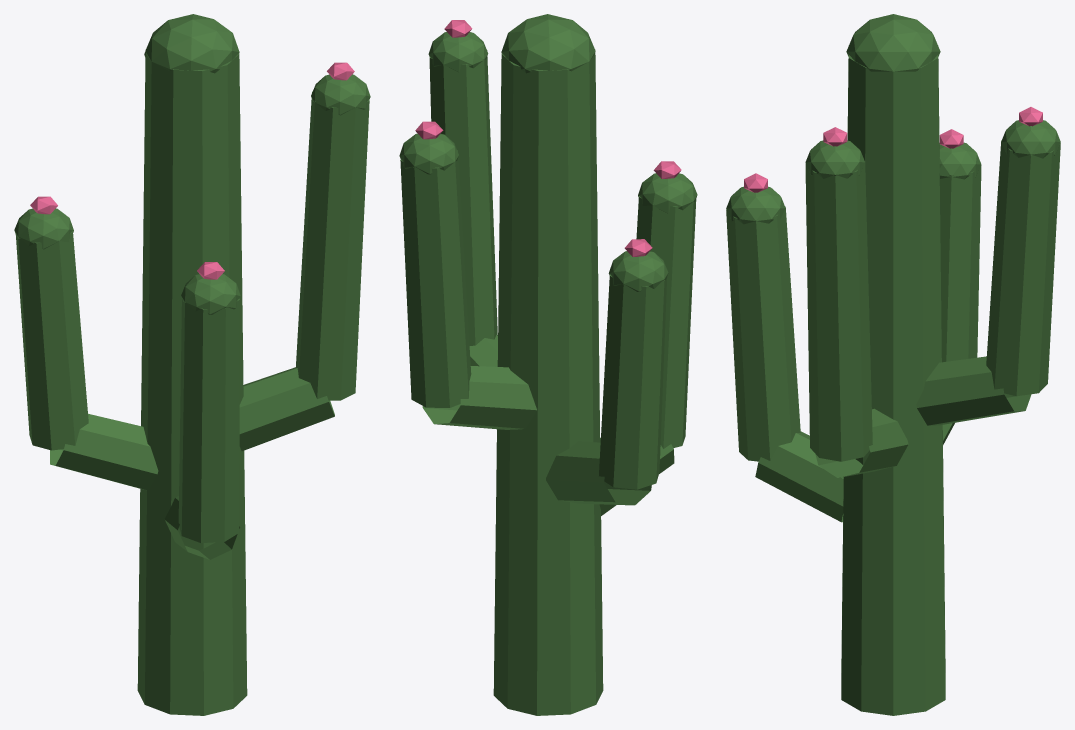
File: DE_Plant_OrganCactus.obj
The picture shows the model from 3 angles, left to right: view 1: azimuth 30°, elevation 25°; view 2: azimuth 150°, elevation 25°; view 3: azimuth 270°, elevation 25°; orthographic projection.
Visible parts, largest first — view 1: stem, arm_0_1, arm_1_1, arm_2_1, arm_2_0, arm_0_0, stem_top, arm_top_1, arm_top_2, arm_top_0, arm_1_0; view 2: stem, arm_3_1, arm_2_1, arm_0_1, arm_1_1, arm_3_0, stem_top, arm_2_0, arm_top_2, arm_top_3, arm_top_0, arm_top_1 (+1 smaller); view 3: stem, arm_0_1, arm_3_1, arm_1_1, arm_2_1, arm_3_0, stem_top, arm_1_0, arm_0_0, arm_top_0, arm_top_3, arm_top_1 (+1 smaller).
Boxes of the visible parts, x1,y1,x2,y2 form: stem: (137,49,247,715); arm_0_1: (295,91,369,400); arm_1_1: (178,292,239,542); arm_2_1: (16,231,88,450); arm_2_0: (50,413,158,490); arm_0_0: (239,367,334,451); stem_top: (145,14,239,73); arm_top_1: (181,274,240,314); arm_top_2: (14,208,73,249); arm_top_0: (311,74,370,115); arm_1_0: (164,496,239,559); stem: (493,49,603,715); arm_3_1: (400,150,471,407); arm_2_1: (599,274,667,489); arm_0_1: (429,50,497,345); arm_1_1: (636,196,696,448); arm_3_0: (422,366,536,429); stem_top: (501,14,595,73); arm_2_0: (546,441,651,505); arm_top_2: (608,251,668,291); arm_top_3: (399,133,458,174); arm_top_0: (428,32,488,72); arm_top_1: (638,173,697,213); stem: (841,54,945,715); arm_0_1: (805,162,872,461); arm_3_1: (986,140,1060,396); arm_1_1: (726,206,800,461); arm_2_1: (940,165,981,362); arm_3_0: (916,356,1031,425); stem_top: (846,14,940,71); arm_1_0: (755,431,843,522); arm_0_0: (815,408,908,477); arm_top_0: (805,140,864,178); arm_top_3: (1001,120,1060,158); arm_top_1: (726,186,785,224).
Size of the model in its own units: 4.26 by 9.45 by 4.26.
